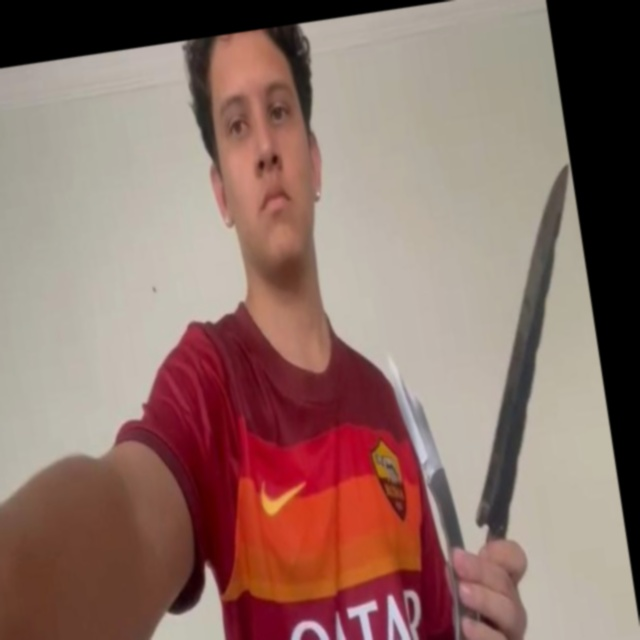Sharp-Object: (426, 160, 620, 528), (386, 348, 446, 483)
